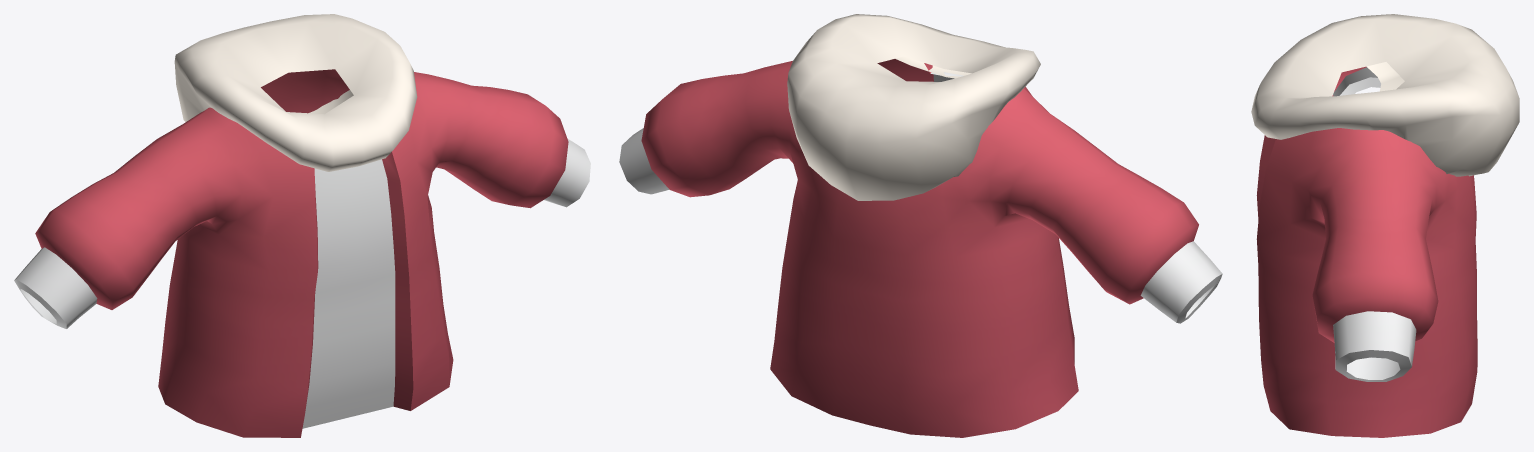
The model's file is Outwear_17.glb.
The picture shows the model from 3 angles, left to right: view 1: azimuth 30°, elevation 25°; view 2: azimuth 150°, elevation 25°; view 3: azimuth 270°, elevation 25°; orthographic projection. The views are drawn at different scales.
Visible parts, largest first — view 1: Outwear_17; view 2: Outwear_17; view 3: Outwear_17.
Boxes of the visible parts, x1,y1,x2,y2 form: Outwear_17: (14,14,590,437); Outwear_17: (619,14,1222,437); Outwear_17: (1251,14,1519,437).
Size of the model in its own units: 0.6114 by 0.3481 by 0.2544.
1 material, 1 textured.
